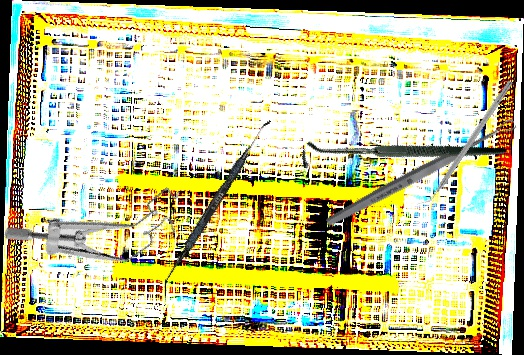Chopper: (415, 74, 514, 212)
Hook Surgical: (296, 65, 507, 248)
Spatula Surgical: (162, 115, 272, 286)
Speculum: (1, 135, 199, 314)
Surgical Spoon: (324, 117, 518, 229)
